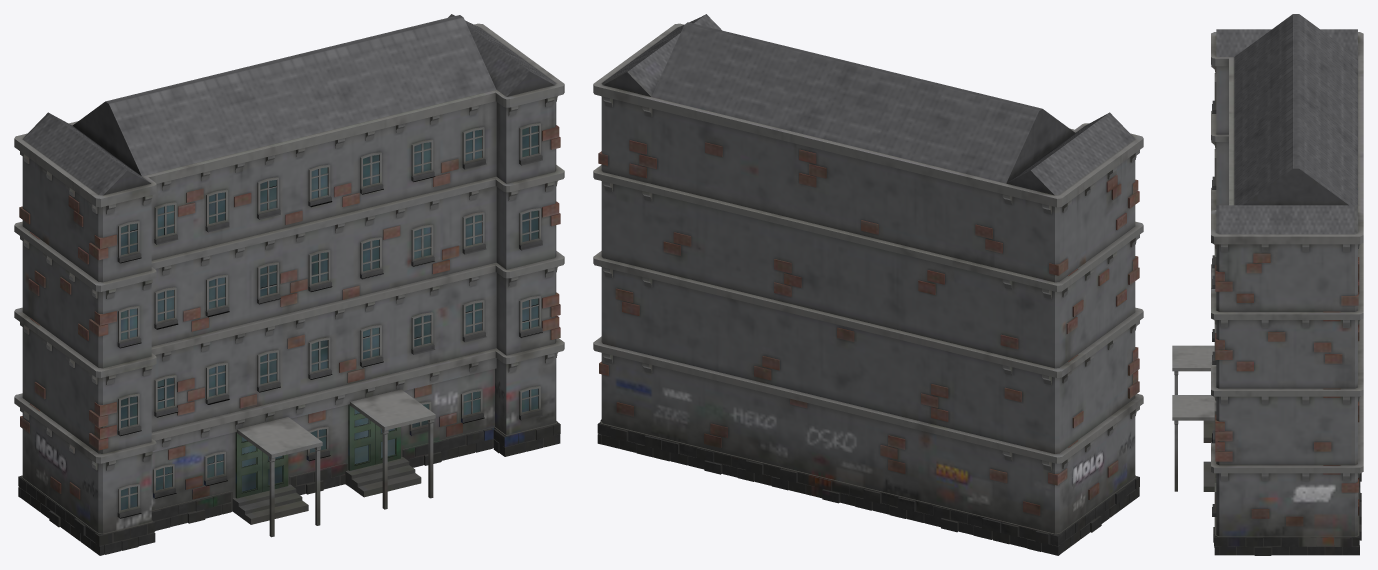
The model's file is 4Story_Wide_2Doors_Roof.glb.
3 views of the same model, side by side, from view 1: azimuth 30°, elevation 25°; view 2: azimuth 150°, elevation 25°; view 3: azimuth 270°, elevation 25° (orthographic). The views are drawn at different scales.
Parts seen in each view (by area): view 1: 4Story_Wide_2Doors_Roof_low; view 2: 4Story_Wide_2Doors_Roof_low; view 3: 4Story_Wide_2Doors_Roof_low.
Part boxes in pixels (left/top/right/bottom): 4Story_Wide_2Doors_Roof_low: left=14, top=14, right=564, bottom=555; 4Story_Wide_2Doors_Roof_low: left=593, top=14, right=1143, bottom=555; 4Story_Wide_2Doors_Roof_low: left=1172, top=14, right=1363, bottom=555.
Bounding box in the file's own units: 6.83 × 5.68 × 2.7.
2 materials, 2 textured.
